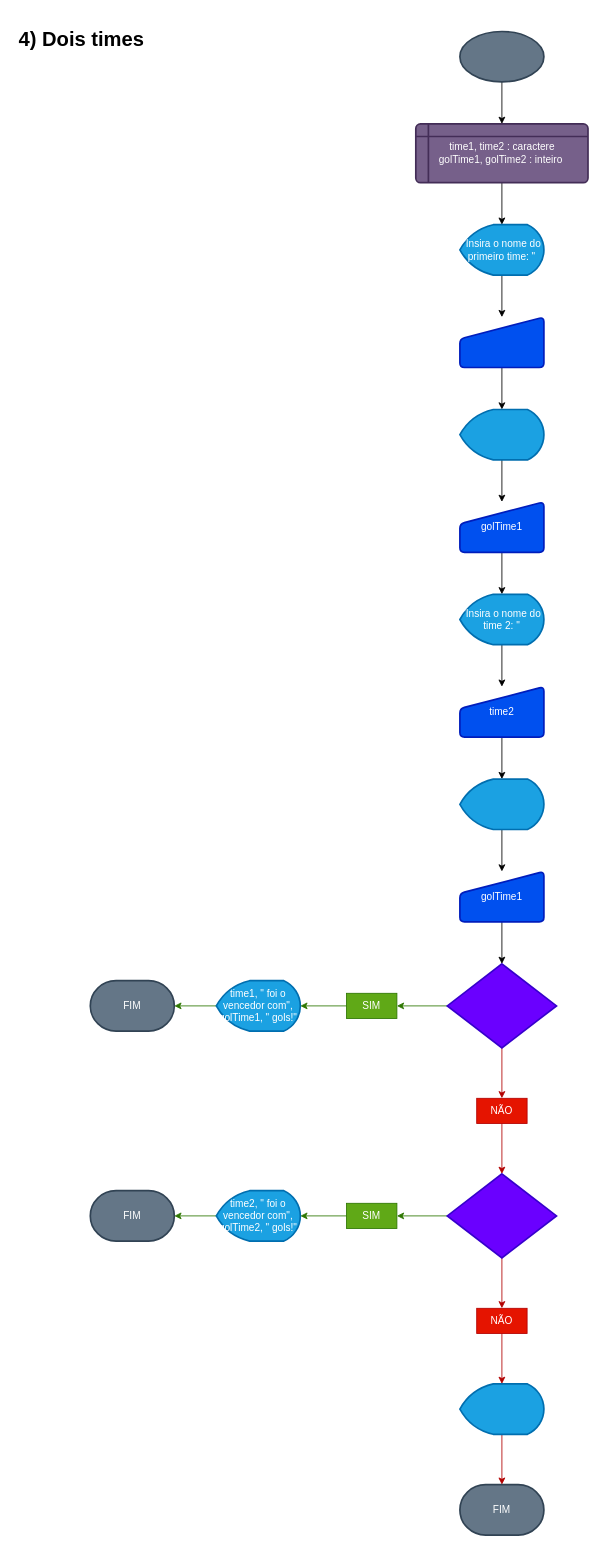
Image size: 603x1550. Some labels were removed from this diagram. The centre of each missing label's shape, as x and y in pixels:
"Número de gols do time 1: ": (x=501, y=434)
"Número de gols do time 2: ": (x=501, y=804)
golTime1 < golTime2: (x=501, y=1215)
golTime1 > golTime2: (x=501, y=1005)
INICIO: (x=501, y=56)
time1: (x=501, y=342)
time1, " empatou com ", time2, " com ", golTime1, " gols!": (x=501, y=1409)
